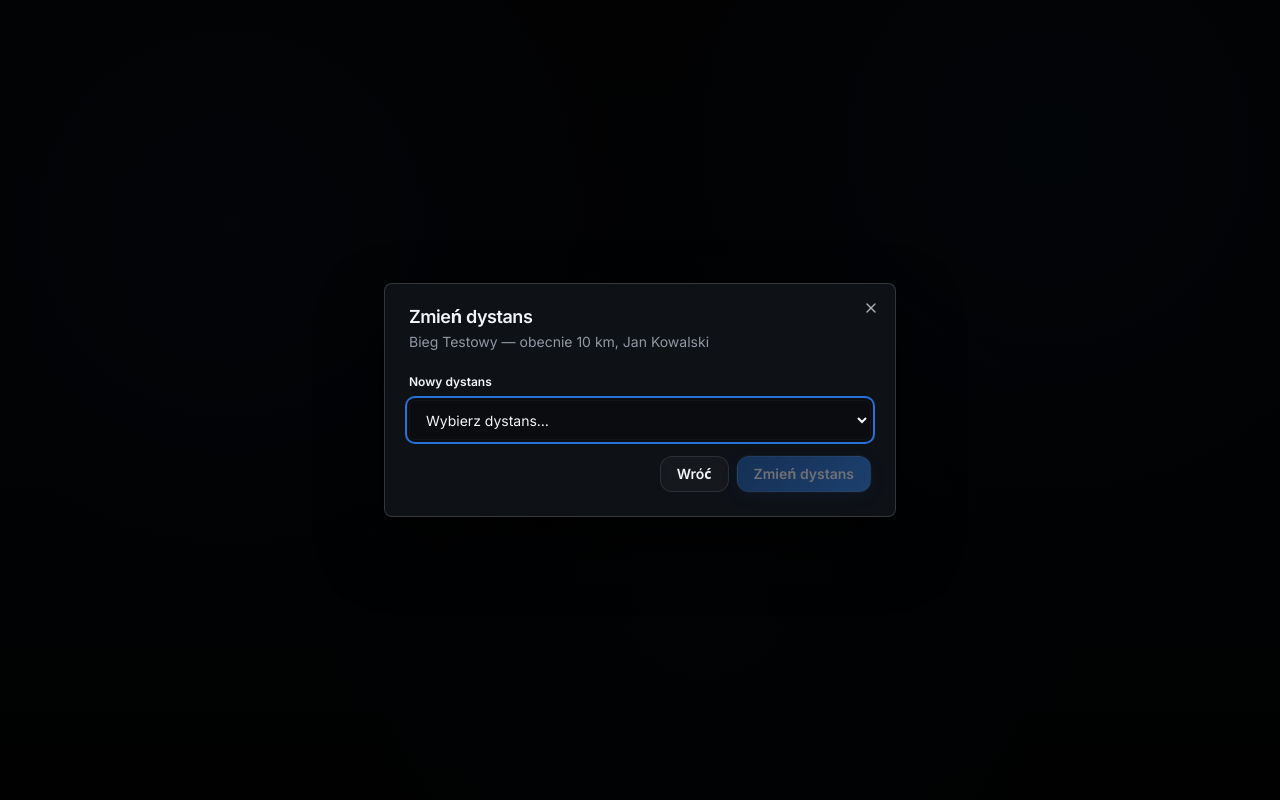
Scenario: ChangeDistanceDialog › lets the organizer confirm a dearer distance and settle the extra by hand
Select "Półmaraton — 120,00 zł" in the dropdown labelled "Nowy dystans": (640, 420) [409,400,871,440]
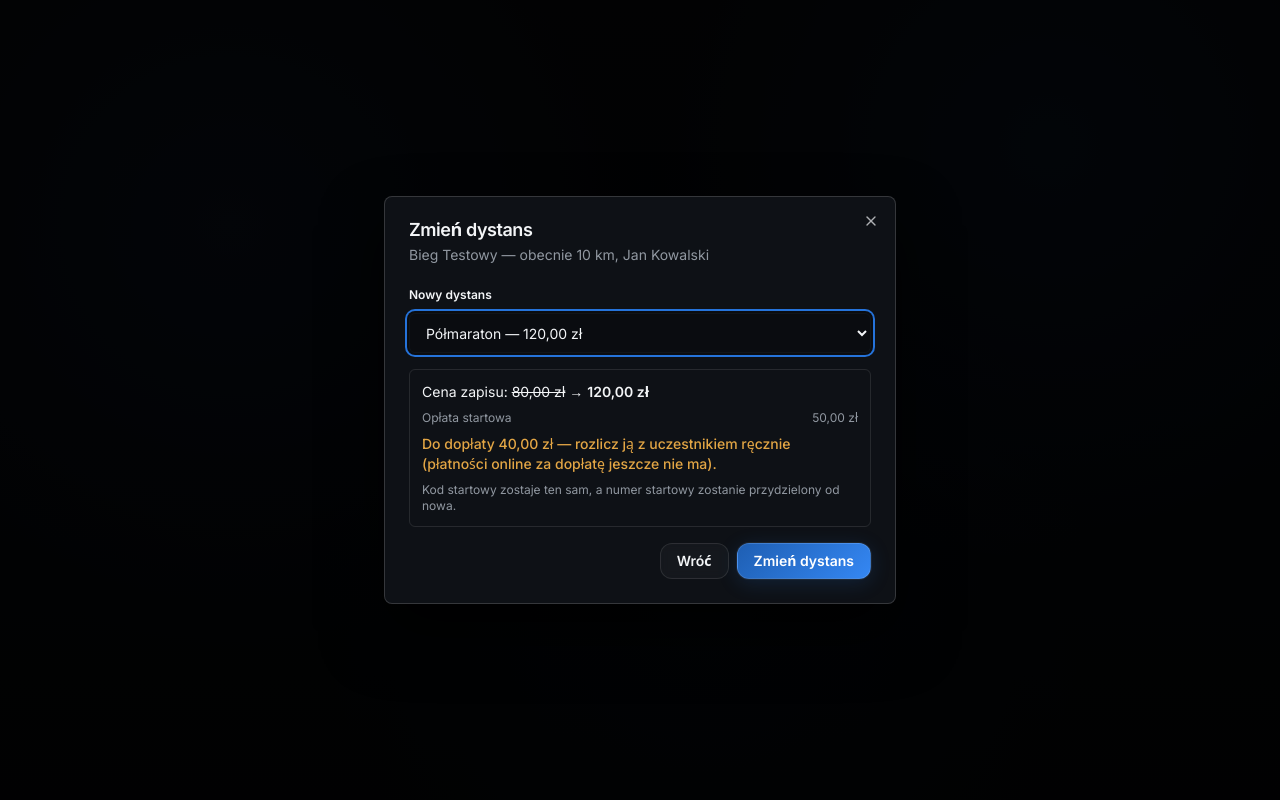
Expected: the text "rozlicz ją z uczestnikiem ręcznie" is shown, [422,435,790,472]
Expected: the button "Zmień dystans" is enabled, [736,543,871,579]
